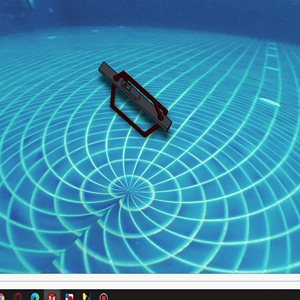submarine: (98, 62, 174, 135)
